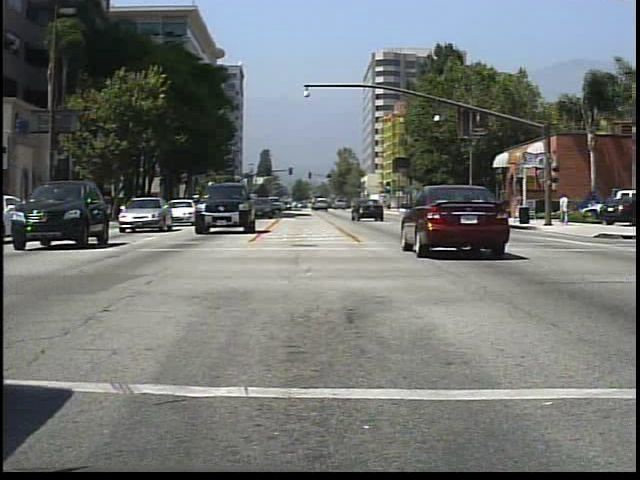person: (509, 189, 527, 226), (557, 189, 573, 225)
